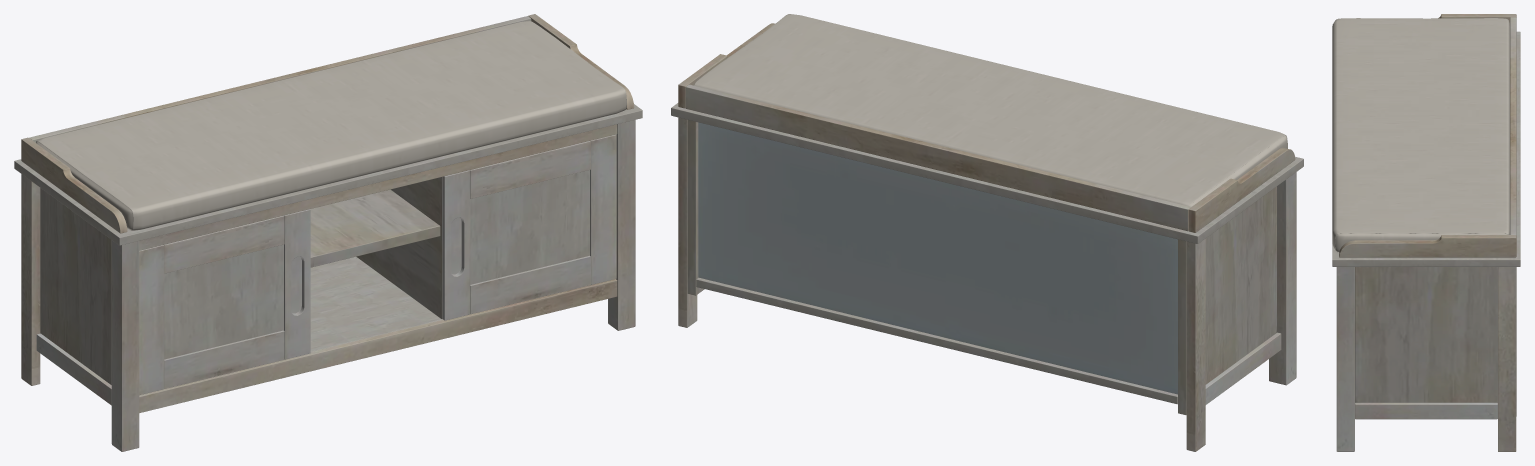
File: abo-B07M6PKCQR.glb
3 renders of one model, left to right at view 1: azimuth 30°, elevation 25°; view 2: azimuth 150°, elevation 25°; view 3: azimuth 270°, elevation 25°, orthographic. The views are drawn at different scales.
Size of the model in its own units: 1.14 by 0.501 by 0.398.
1 material, 1 textured.
